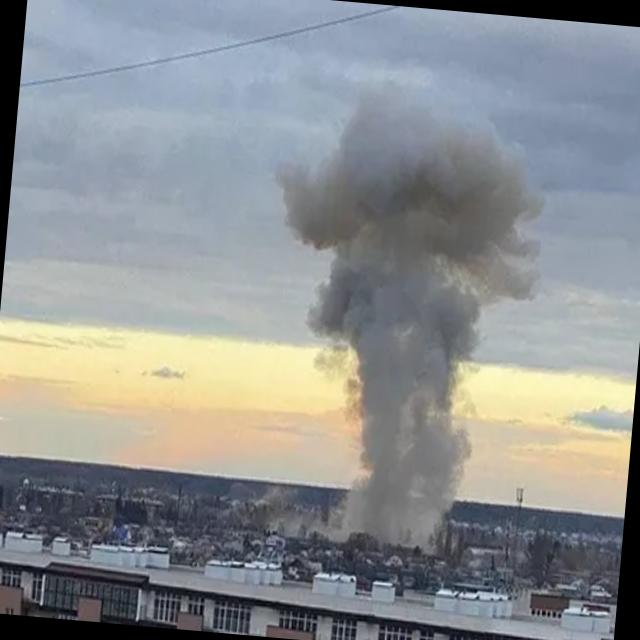Smoke: (244, 84, 558, 557)
